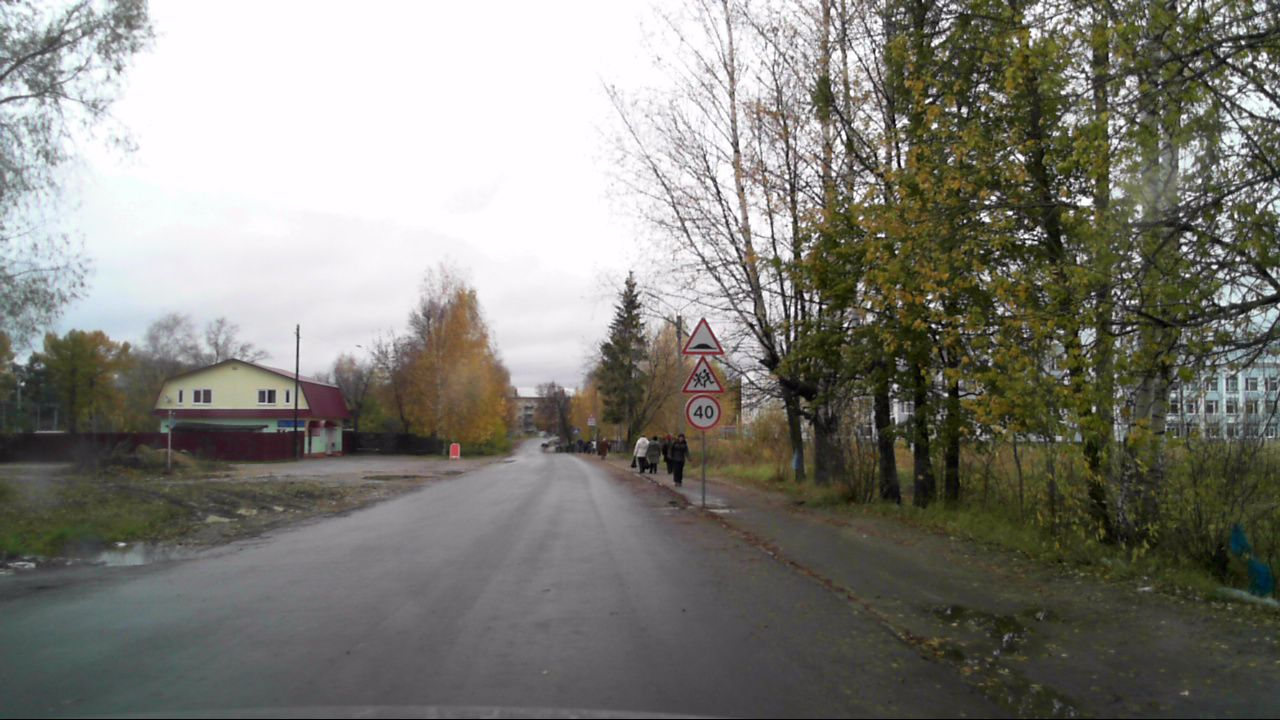speed_warning_40: (685, 393, 722, 429)
